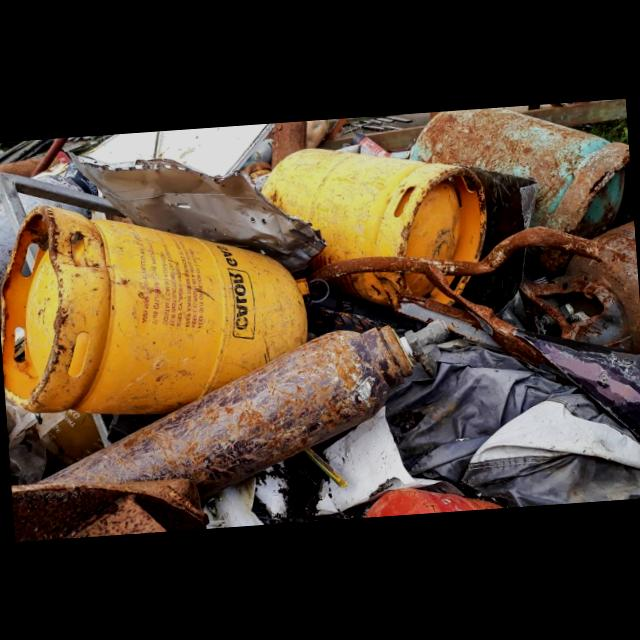Cylinders: (2, 205, 319, 410), (254, 143, 487, 309)
